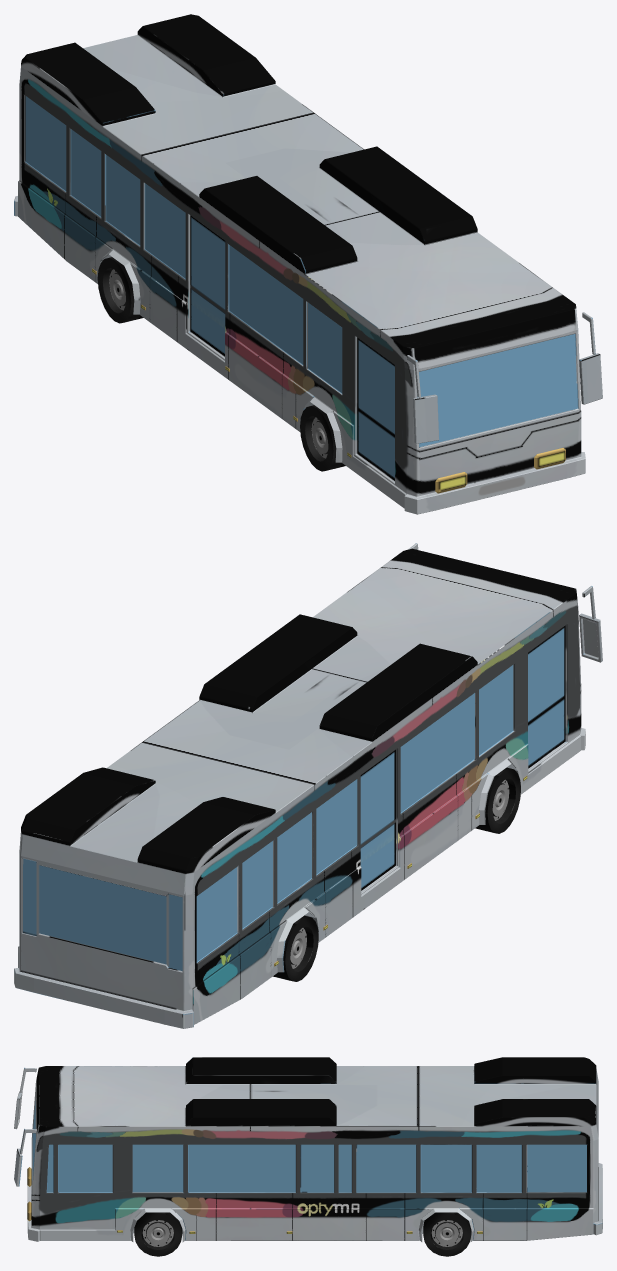
File: bus.fbx
The picture shows the model from 3 angles, top to bottom: view 1: azimuth 30°, elevation 25°; view 2: azimuth 150°, elevation 25°; view 3: azimuth 270°, elevation 25°; orthographic projection. The views are drawn at different scales.
Parts seen in each view (by area): view 1: Cube, Cylinder.001, Cylinder, Cube.008; view 2: Cube, Cylinder, Cylinder.001; view 3: Cube, Cylinder.009, Cylinder.008.
Boxes of the visible parts, x1,y1,x2,y2 form: Cube: [14, 14, 602, 514]; Cylinder.001: [97, 257, 143, 323]; Cylinder: [300, 405, 345, 471]; Cube.008: [435, 448, 565, 493]; Cube: [14, 543, 602, 1028]; Cylinder: [475, 767, 520, 833]; Cylinder.001: [273, 915, 318, 981]; Cube: [14, 1057, 602, 1242]; Cylinder.009: [423, 1212, 471, 1256]; Cylinder.008: [134, 1212, 182, 1256].
Size of the model in its own units: 349 by 1327 by 340.
3 materials, 3 textured.
